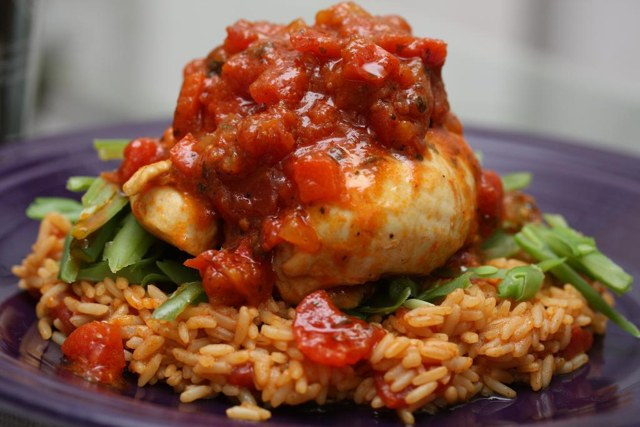tomato: (296, 289, 384, 363), (64, 322, 124, 382), (377, 374, 416, 410)
